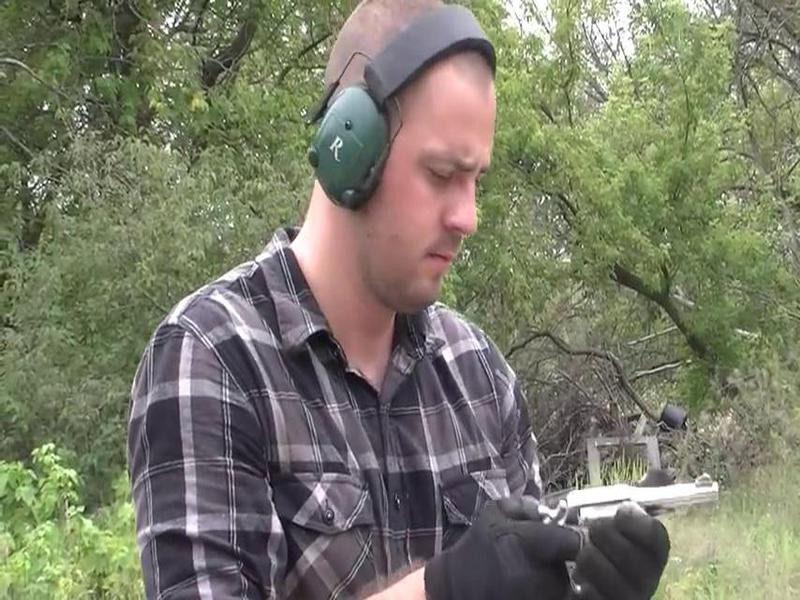Revolver: (526, 455, 736, 584)
